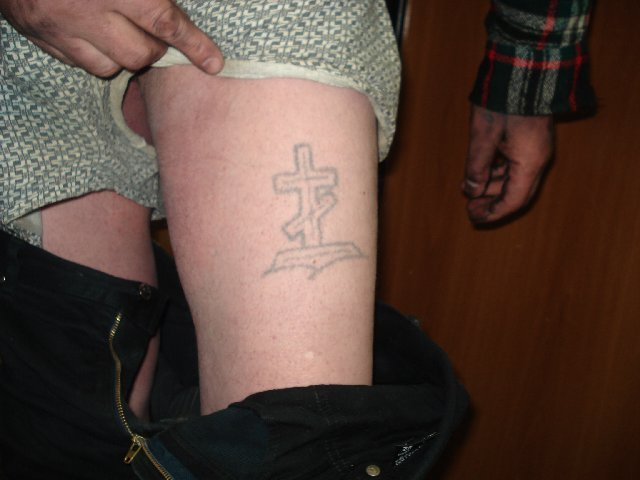tatu9_krest: (268, 134, 357, 256)
